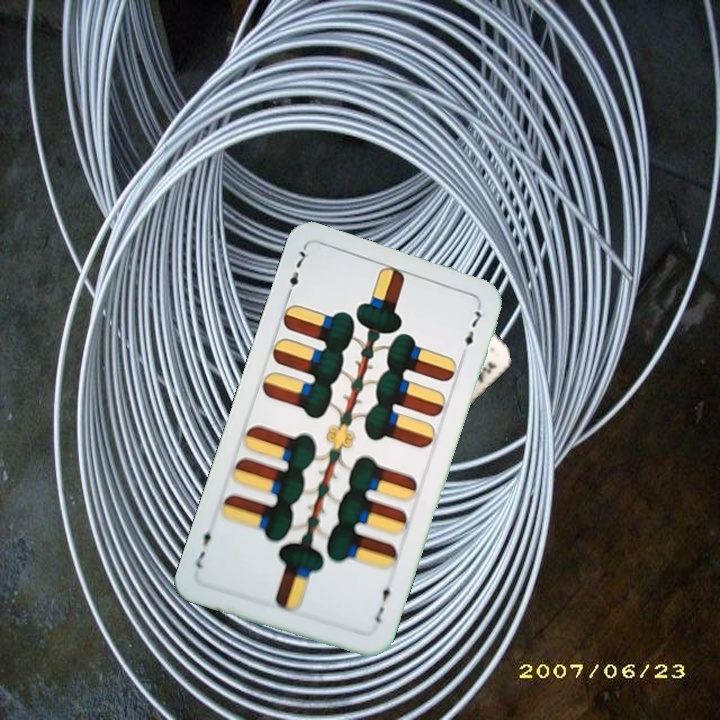E7: (282, 244, 312, 301), (371, 579, 396, 626)
